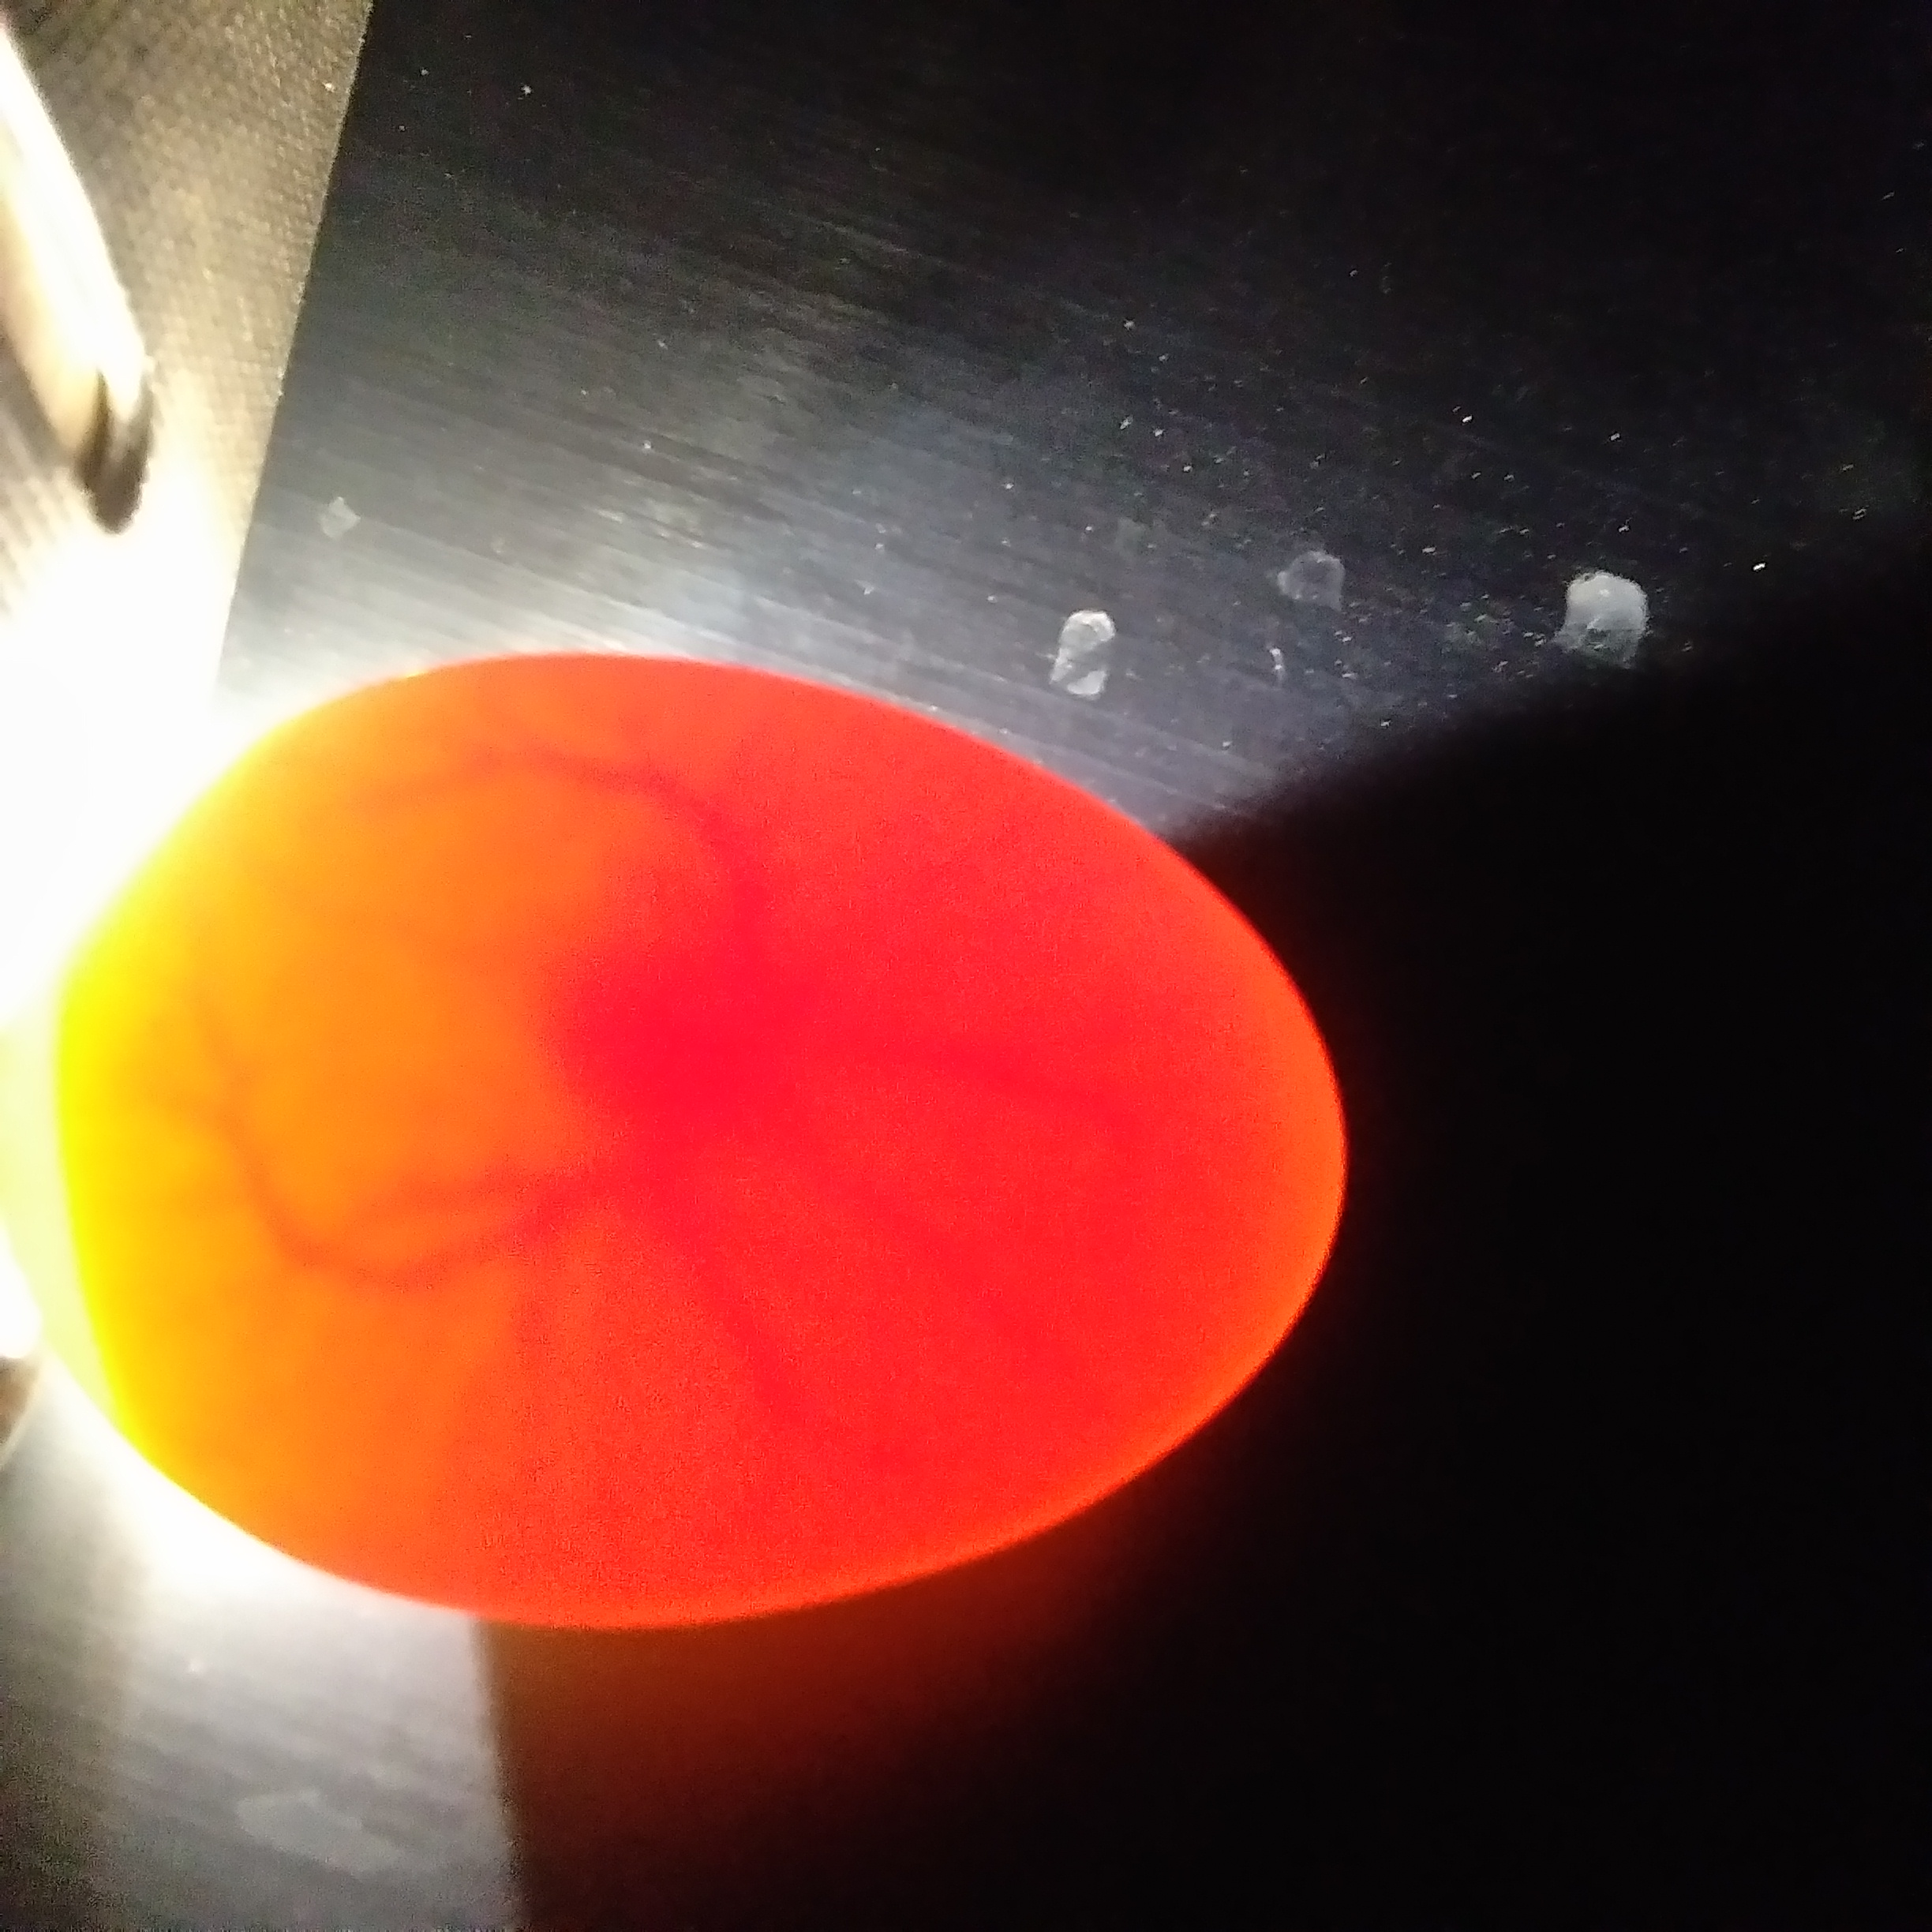bloodcell: (209, 1169, 1065, 1500), (315, 745, 878, 893)
embryo: (531, 939, 828, 1125)
